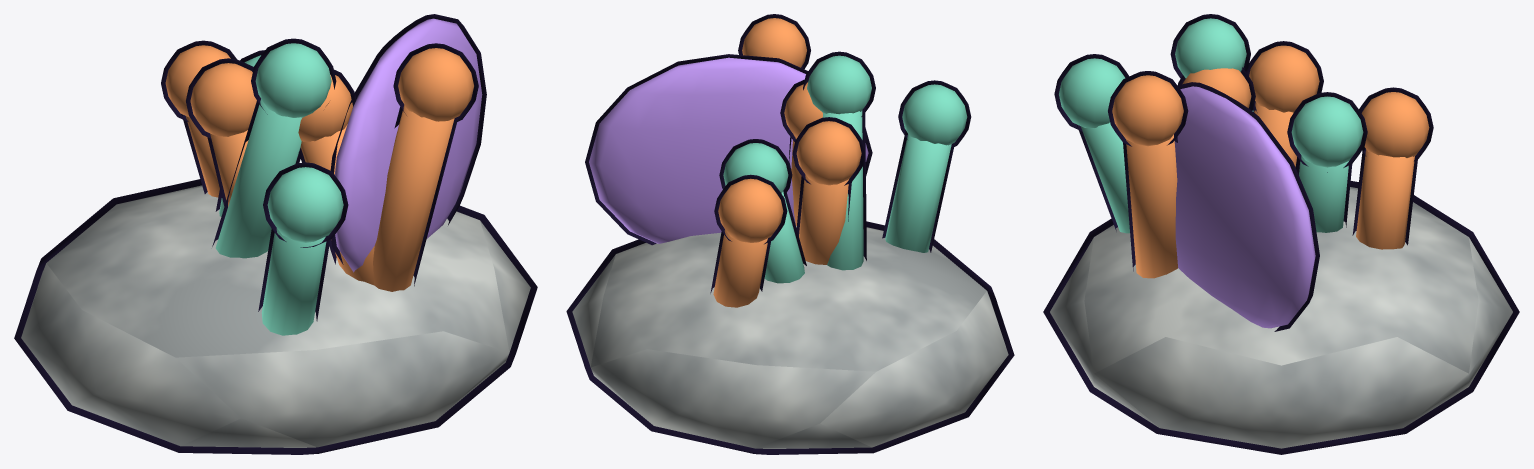
The model's file is coral2.glb.
3 views of the same model, side by side, from view 1: azimuth 30°, elevation 25°; view 2: azimuth 150°, elevation 25°; view 3: azimuth 270°, elevation 25° (orthographic). The views are drawn at different scales.
Parts seen in each view (by area): view 1: coral2; view 2: coral2; view 3: coral2.
Part boxes in pixels (bbox=[...]): coral2: bbox=[14, 14, 537, 454]; coral2: bbox=[566, 14, 1014, 454]; coral2: bbox=[1043, 14, 1519, 454].
Bounding box in the file's own units: 0.8787 × 0.7623 × 0.864.
5 materials, 1 textured.
